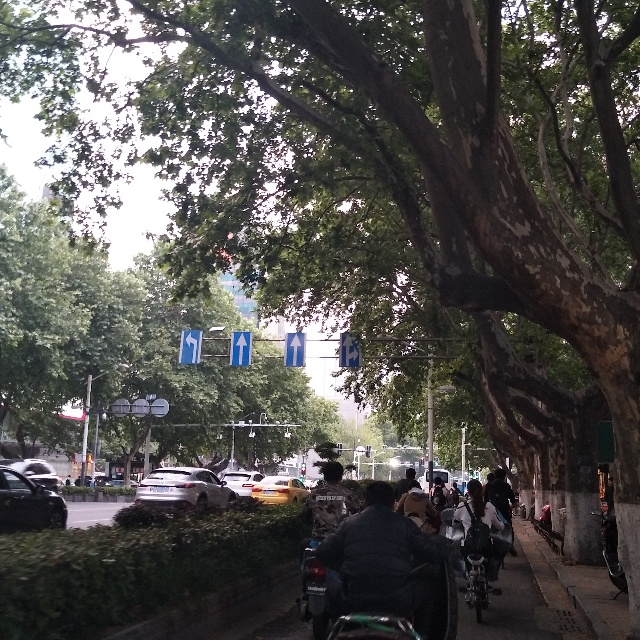left: (178, 330, 203, 365)
straight: (229, 332, 252, 366), (283, 333, 306, 367)
